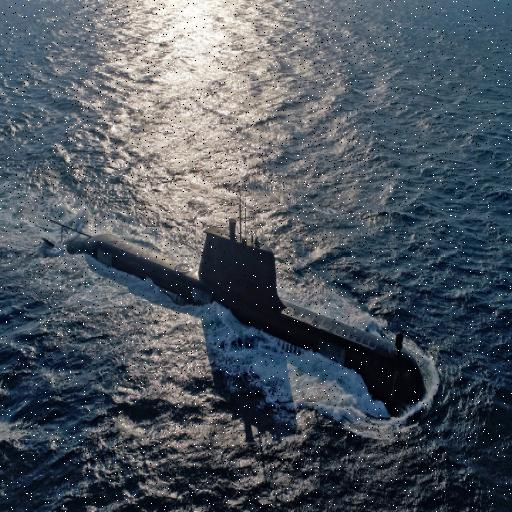submarine: (44, 200, 430, 402)
